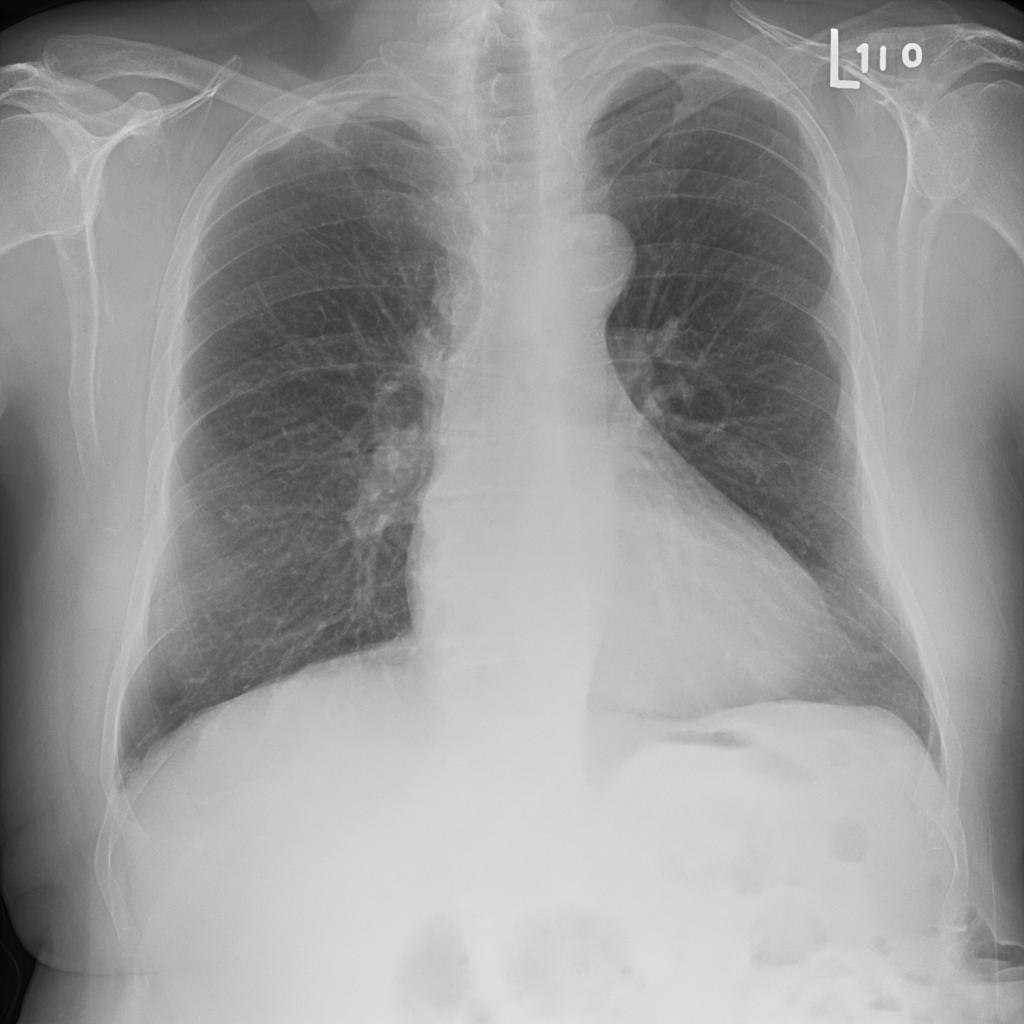Nodule: (340, 335, 406, 360)
